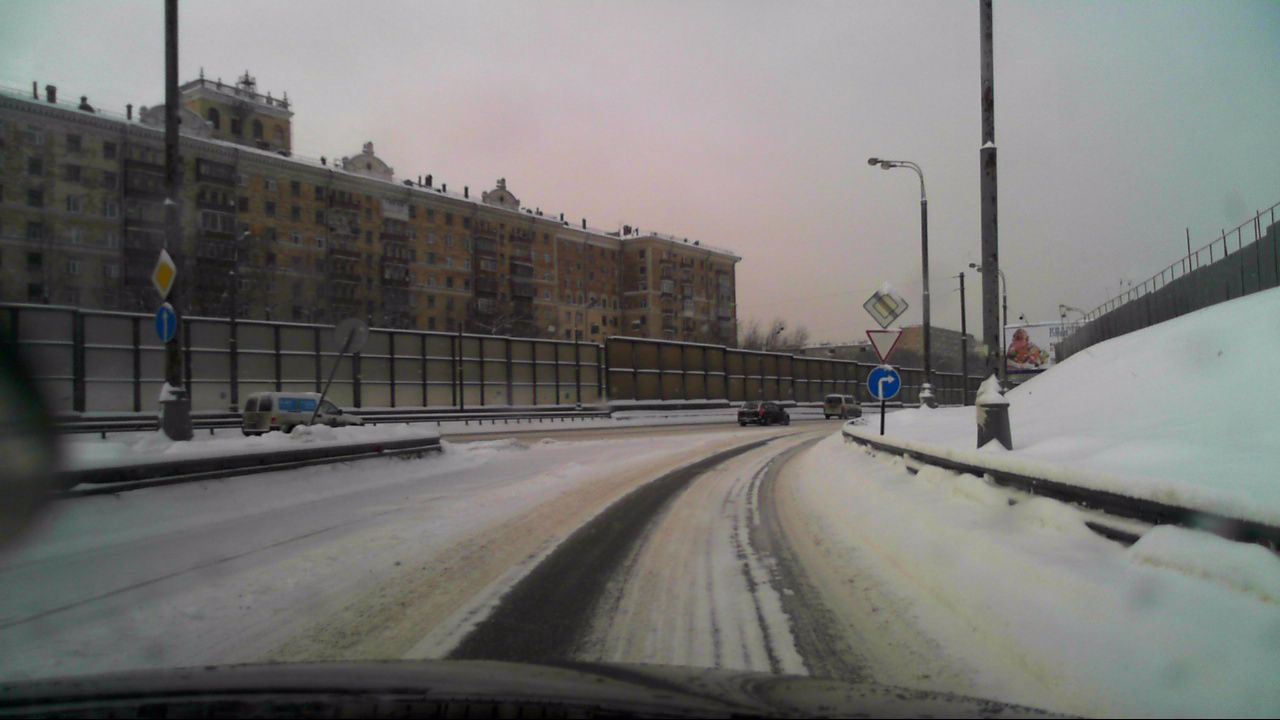main road: (862, 282, 908, 328)
